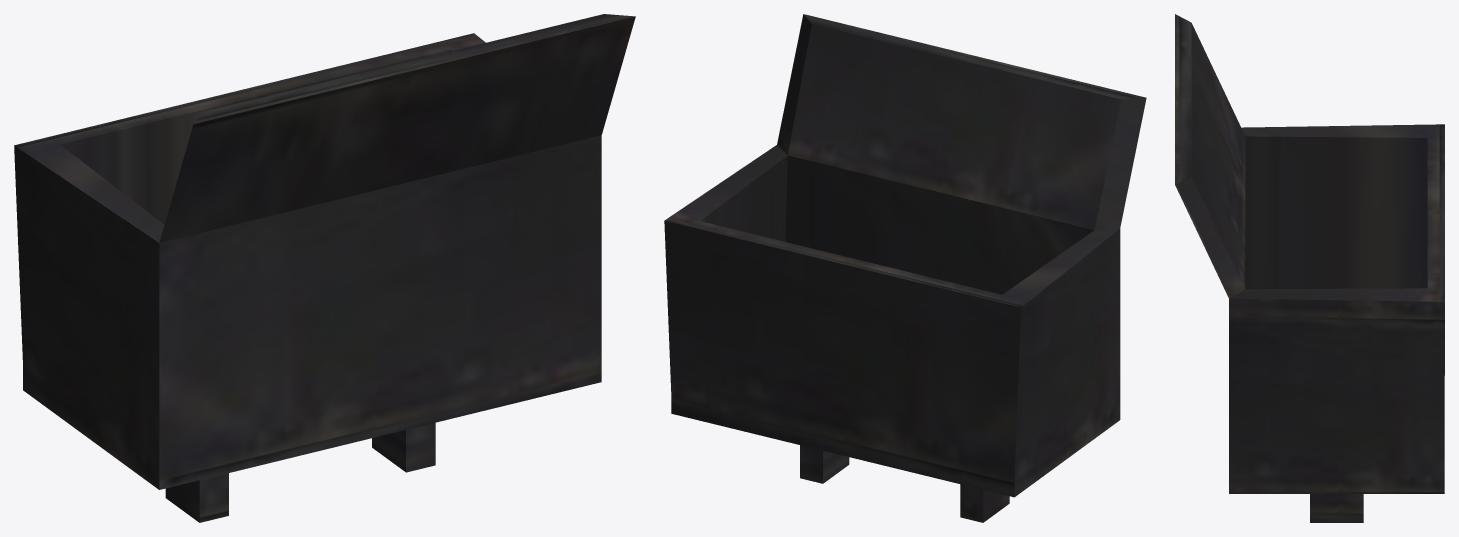
File: CestoBasura.fbx
The picture shows the model from 3 angles, left to right: view 1: azimuth 30°, elevation 25°; view 2: azimuth 150°, elevation 25°; view 3: azimuth 270°, elevation 25°; orthographic projection. The views are drawn at different scales.
Parts seen in each view (by area): view 1: CestoBasura; view 2: CestoBasura; view 3: CestoBasura.
Boxes of the visible parts, x1=… form: CestoBasura: x1=14, y1=14, x2=635, y2=522; CestoBasura: x1=664, y1=14, x2=1146, y2=522; CestoBasura: x1=1175, y1=14, x2=1444, y2=522.
Bounding box in the file's own units: 1.56 × 1 × 1.57.
Materials: 1 (1 with a texture image).
